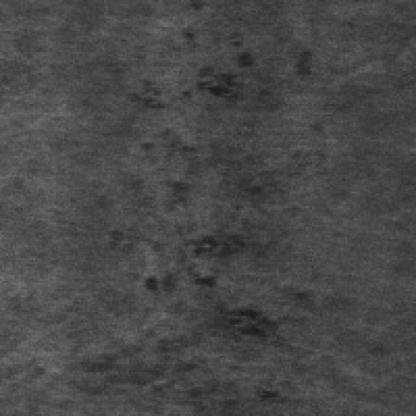rolled-in_scale: (129, 48, 297, 335)
